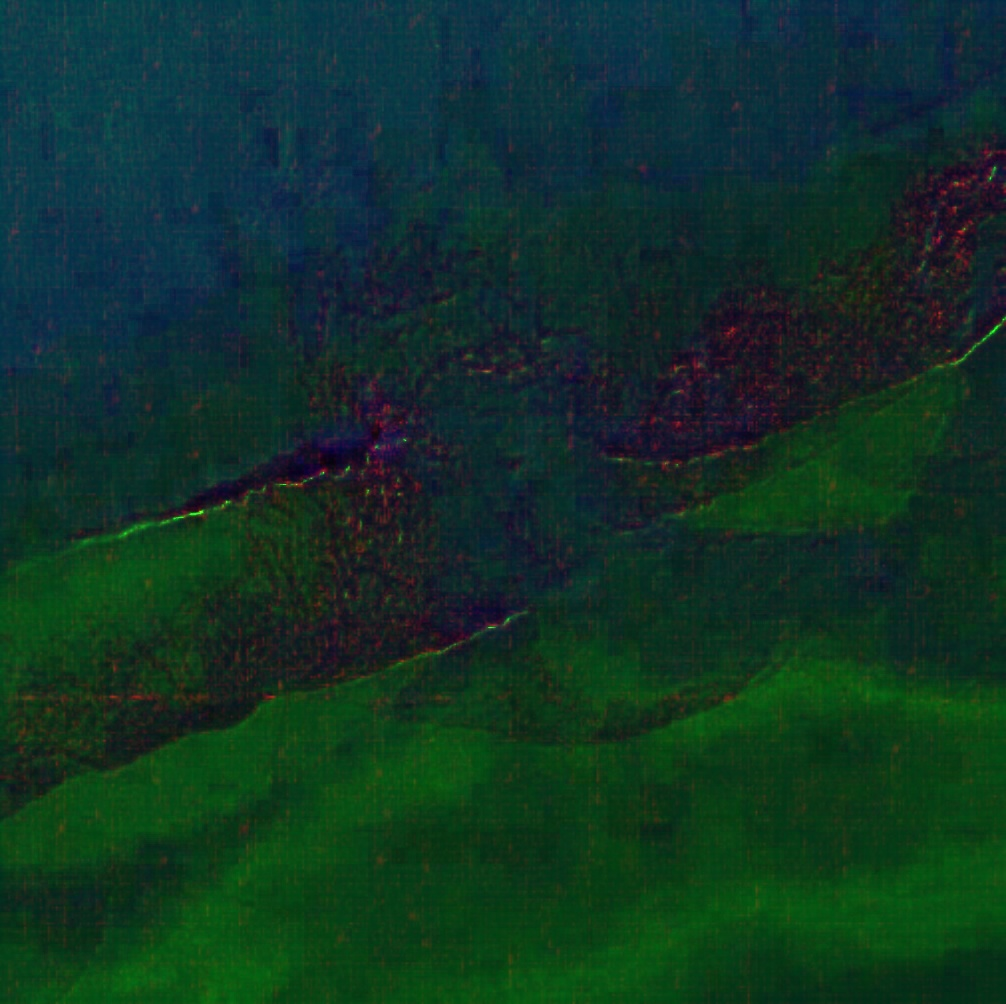rip_current: (251, 199, 736, 695)
